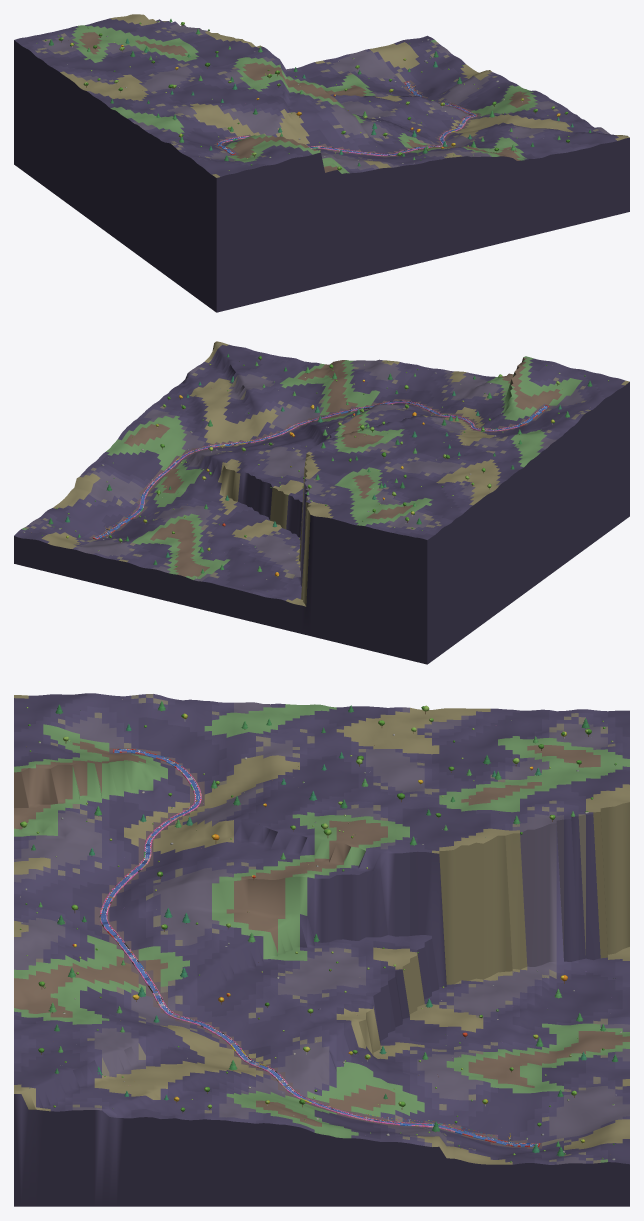
3 views of the same model, one above another, from view 1: azimuth 30°, elevation 25°; view 2: azimuth 150°, elevation 25°; view 3: azimuth 270°, elevation 25° (orthographic). The views are drawn at different scales.
Parts seen in each view (by area): view 1: grass, pines, hay, leafy trees, road; view 2: grass, hay, pines, road, leafy trees; view 3: grass, pines, road, hay, leafy trees, markings.
Part boxes in pixels (bbox=[...]): grass: bbox=[14, 14, 629, 312]; pines: bbox=[49, 19, 591, 166]; hay: bbox=[217, 81, 477, 155]; leafy trees: bbox=[58, 22, 569, 170]; road: bbox=[218, 82, 476, 155]; grass: bbox=[14, 341, 629, 664]; hay: bbox=[93, 400, 549, 539]; pines: bbox=[48, 354, 592, 573]; road: bbox=[95, 401, 547, 538]; leafy trees: bbox=[66, 356, 559, 551]; grass: bbox=[14, 693, 629, 1206]; pines: bbox=[31, 701, 618, 1156]; road: bbox=[100, 749, 538, 1145]; hay: bbox=[99, 749, 540, 1146]; leafy trees: bbox=[20, 705, 591, 1142]; markings: bbox=[101, 749, 537, 1145].
Size of the model in its own units: 594 by 193 by 504.
